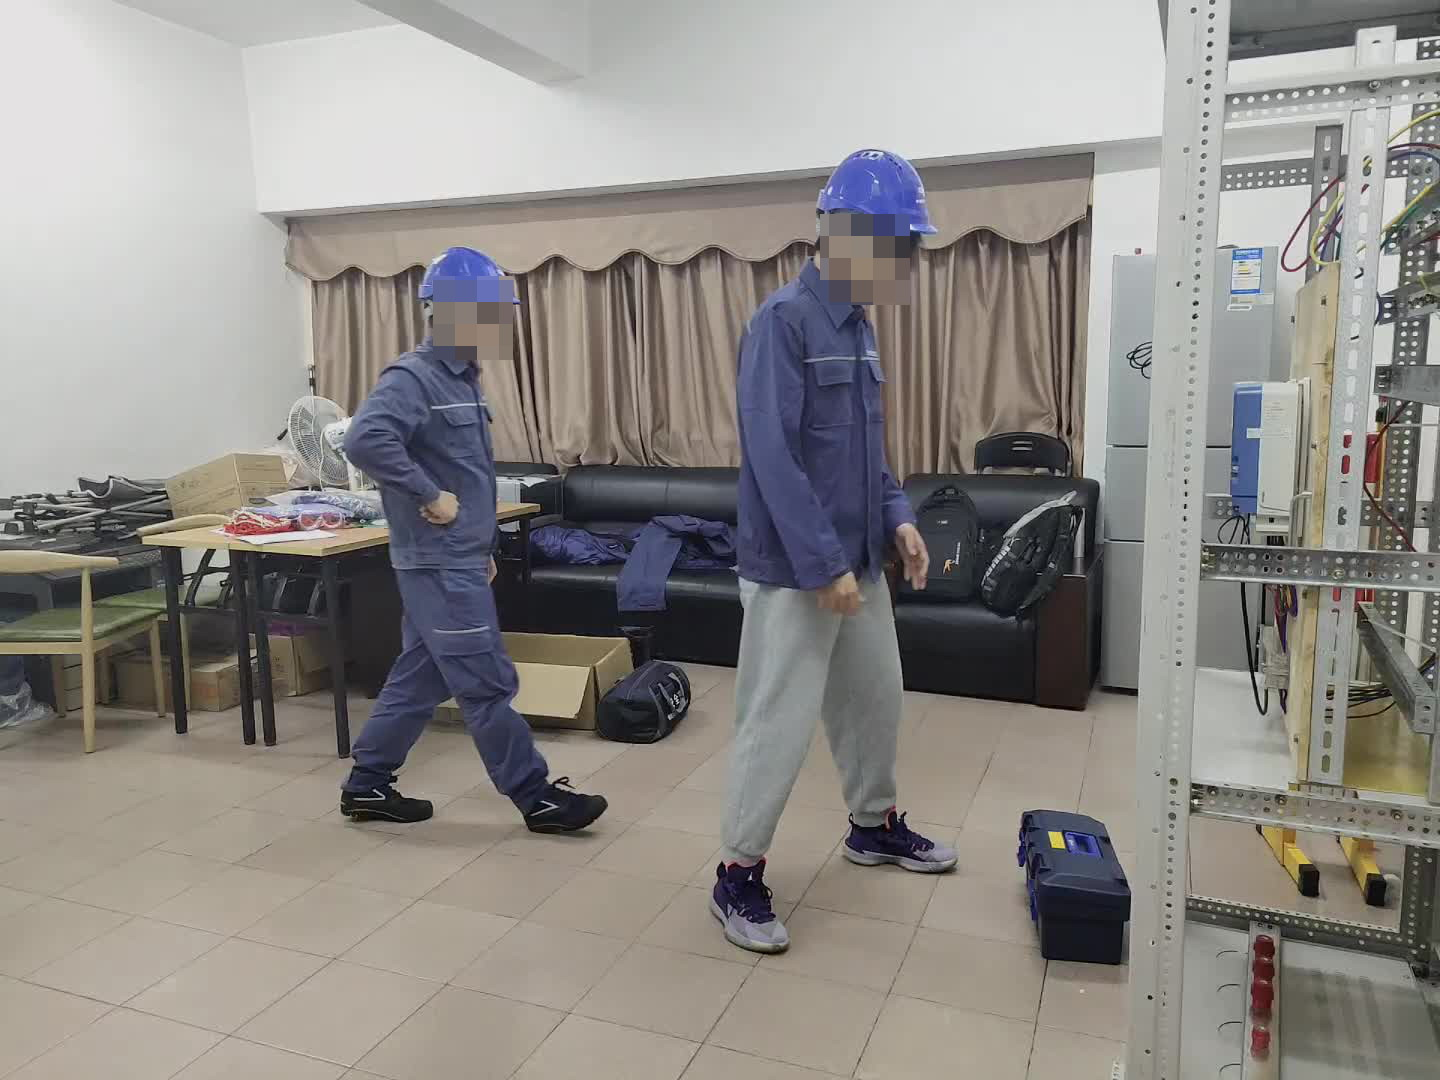downcloth: (715, 589, 913, 867)
downsuit: (346, 583, 556, 804)
halt: (811, 147, 938, 274), (416, 245, 521, 353)
hand: (899, 526, 929, 594), (814, 574, 864, 613), (427, 488, 461, 523)
inear: (824, 215, 886, 291), (427, 294, 470, 343)
person: (704, 145, 952, 904), (330, 237, 589, 835)
upsuit: (727, 267, 913, 575), (344, 333, 509, 565)
